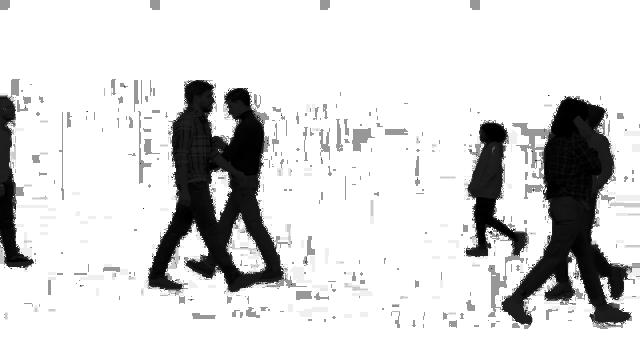berjalan: (504, 97, 630, 329), (140, 78, 262, 296), (190, 90, 284, 278), (459, 120, 525, 258)
